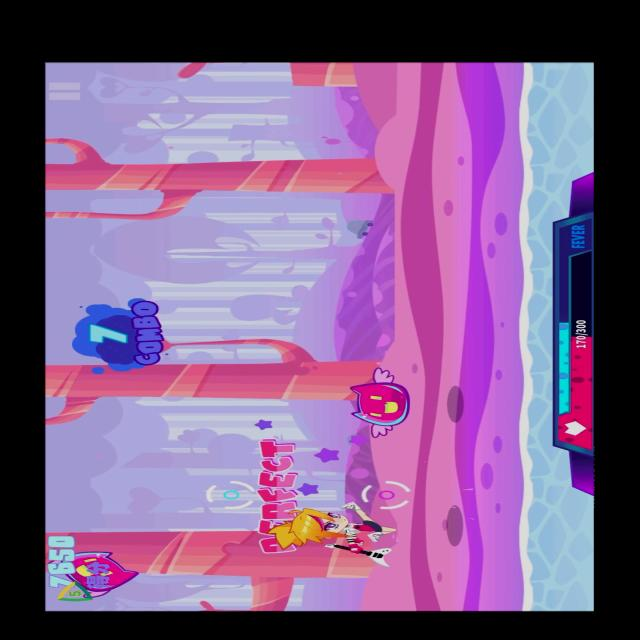Ground Monster - Red Devil: (342, 362, 428, 438)
